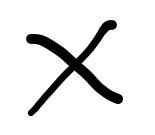mult: (26, 20, 123, 116)
